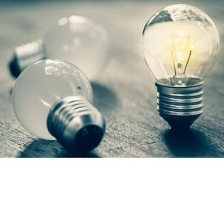light_bulb: (137, 2, 221, 139), (6, 55, 108, 158), (6, 10, 121, 83)
